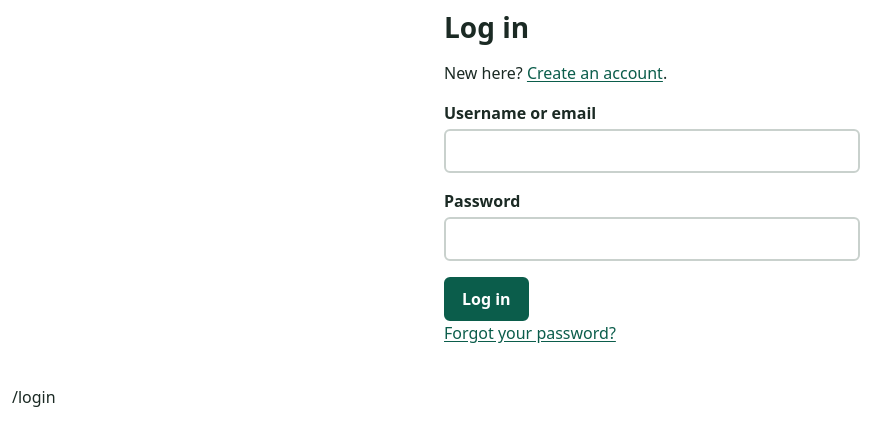
Test case: Login page › disables the button while it waits for the server
Type "ronel" into the field labelled "Username or email". click: (652, 151)
box: x1=444 y1=129 x2=860 y2=173
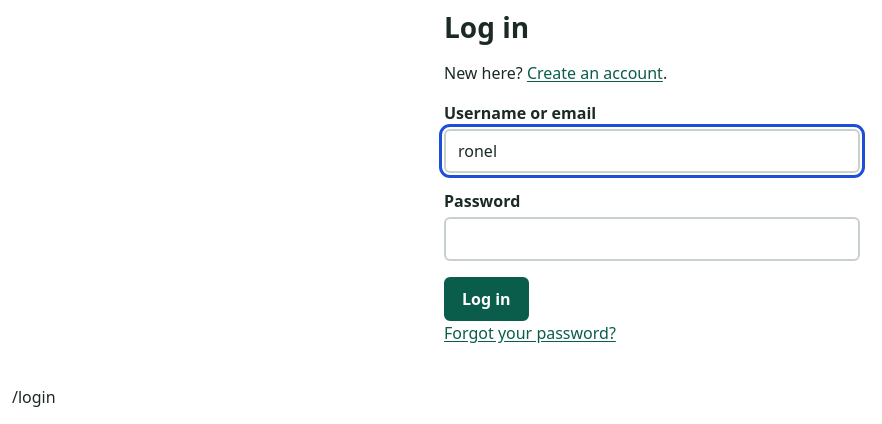
Type "secret-pw" into the password field labelled "Password". click: (652, 239)
box: x1=444 y1=217 x2=860 y2=261
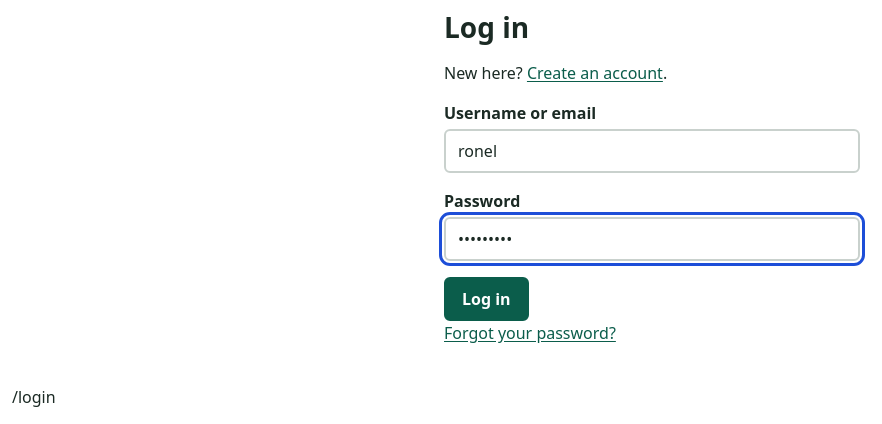
Click the button "Log in". click: (486, 299)
box: x1=444 y1=277 x2=529 y2=321
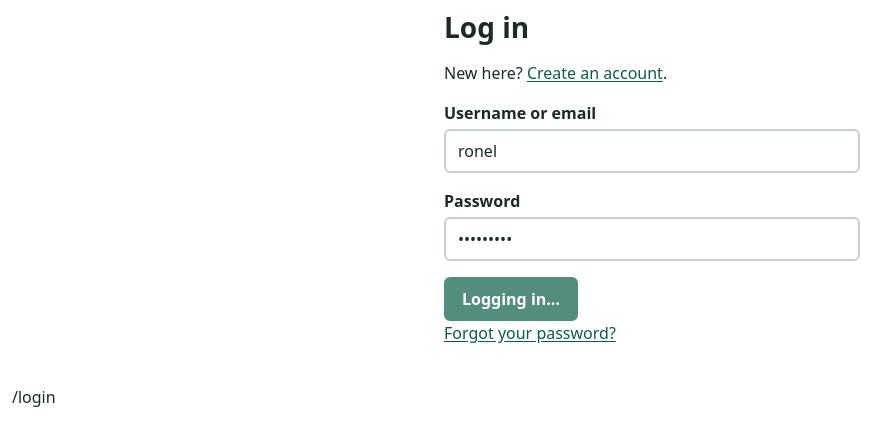
Result: the button "Logging in…" is disabled at x1=444 y1=277 x2=578 y2=321
Result: the button "Logging in…" is shown at x1=444 y1=277 x2=578 y2=321
